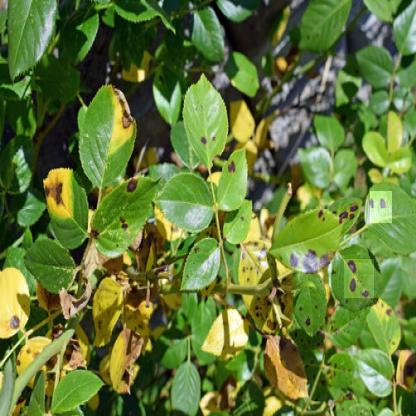black-spot: (344, 259, 374, 298), (370, 192, 392, 224)
